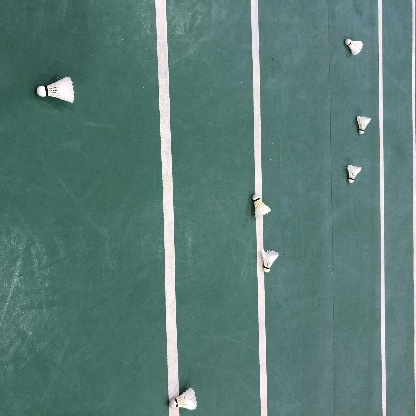ball_single: (37, 77, 74, 103), (169, 388, 197, 410), (252, 194, 271, 217), (261, 249, 279, 272), (345, 39, 363, 55), (347, 164, 362, 183), (357, 116, 371, 134)
